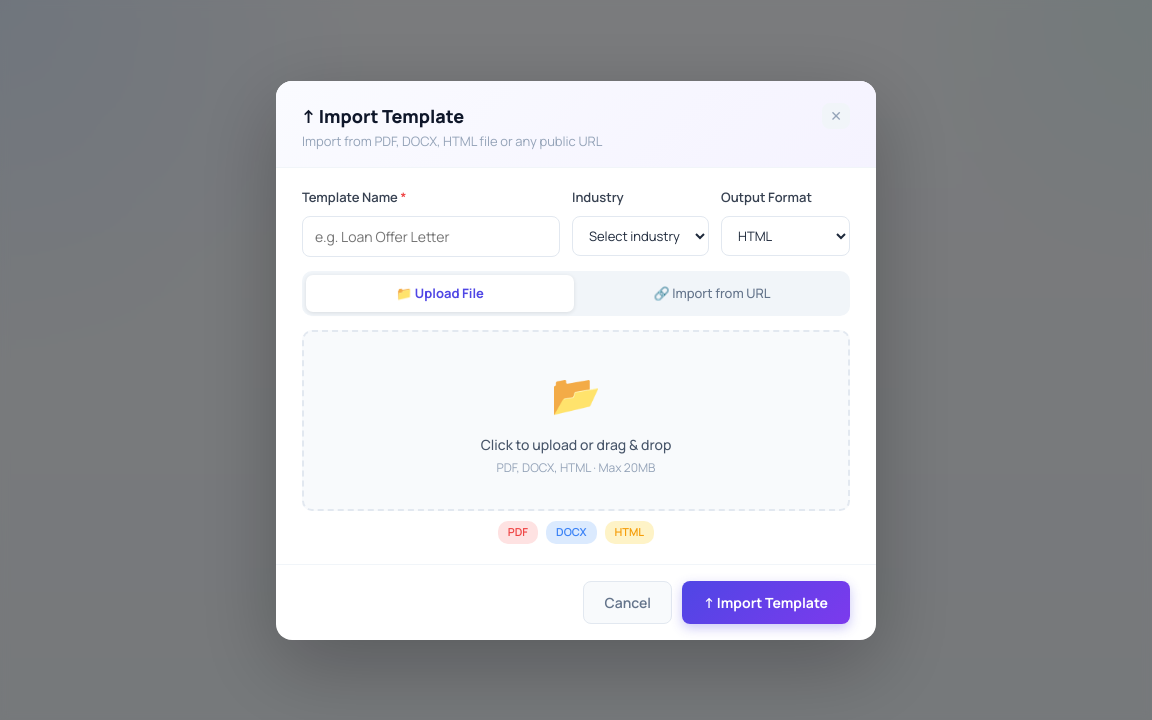
ImportTemplateModal › should_show_validation_error_when_file_import_is_submitted_without_name
Step 1. Click the button "↑ Import Template" → (766, 602), box [682,580,850,624]
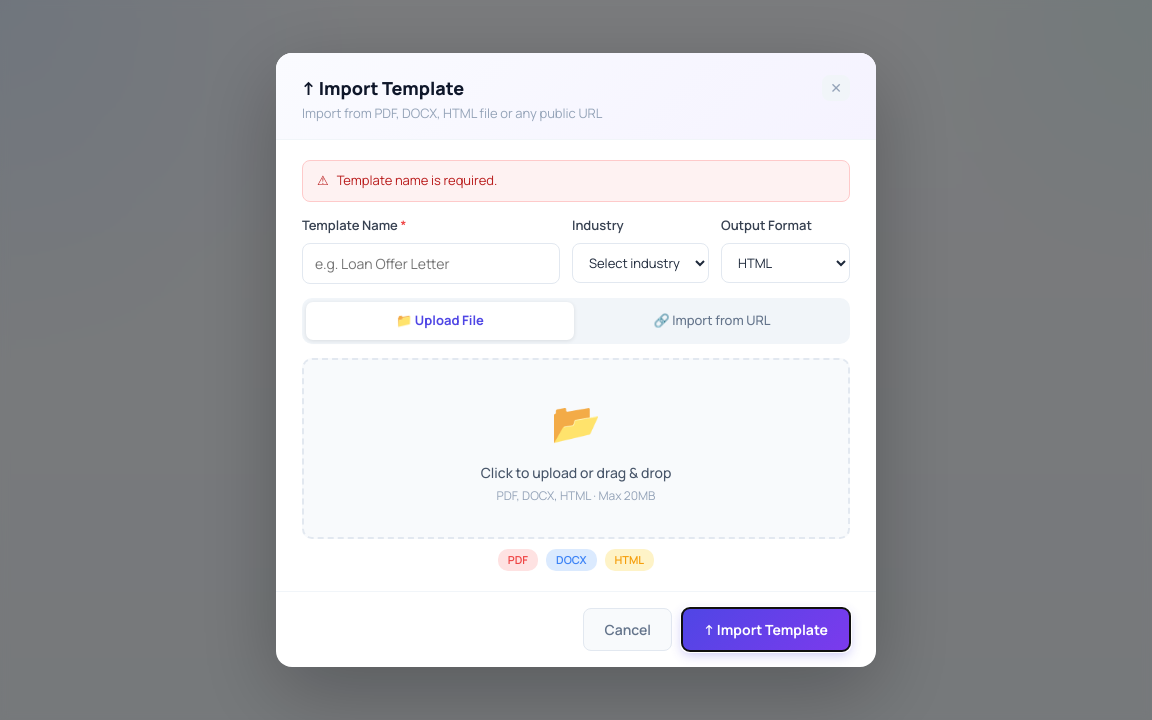
Expected: the text "Template name is required." is shown, [337,171,497,191]
